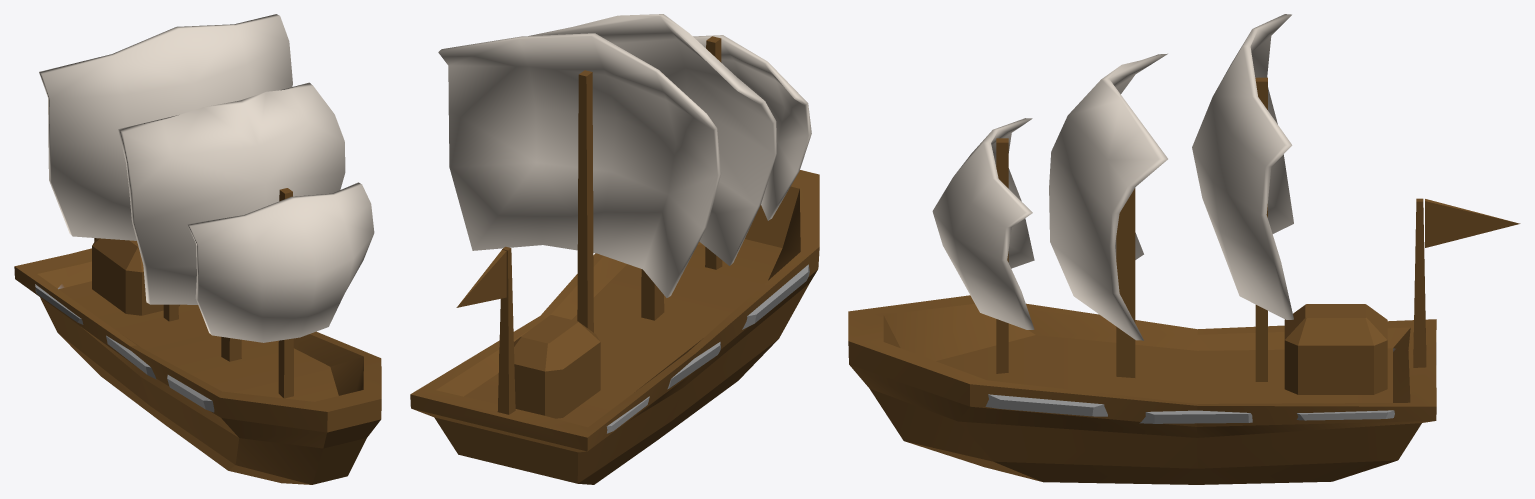
Rendered from Boat1.obj.
3 views of the same model, side by side, from view 1: azimuth 30°, elevation 25°; view 2: azimuth 150°, elevation 25°; view 3: azimuth 270°, elevation 25° (orthographic). The views are drawn at different scales.
Parts seen in each view (by area): view 1: Boat_T1_Sails polySurface18, Boat_T1_Sails polySurface22, Boat_T1_Sails Sails2 polySurface32, Boat_T1_Sails polySurface23 Sails1, polySurface17 Boat_T1_Sails, Boat_T1_Sails Sails1 polySurface24, Boat_T1_Sails Hull1 polySurface29, Boat_T1_Sails Hull1 polySurface28, Boat_T1_Sails polySurface21; view 2: Boat_T1_Sails Sails2 polySurface32, Boat_T1_Sails polySurface18, Boat_T1_Sails polySurface22, polySurface17 Boat_T1_Sails, Boat_T1_Sails polySurface23 Sails1, Boat_T1_Sails polySurface31 Sails2, Boat_T1_Sails polySurface20, Boat_T1_Sails polySurface19, Boat_T1_Sails Hull1 polySurface29, Boat_T1_Sails polySurface21, Boat_T1_Sails Hull1 polySurface28, Boat_T1_Sails Sails1 polySurface24; view 3: Boat_T1_Sails polySurface18, Boat_T1_Sails Sails2 polySurface32, Boat_T1_Sails polySurface22, Boat_T1_Sails polySurface23 Sails1, polySurface17 Boat_T1_Sails, Boat_T1_Sails polySurface21, Boat_T1_Sails polySurface19, Boat_T1_Sails polySurface20, Boat_T1_Sails polySurface25 Hull1, Boat_T1_Sails Hull1 polySurface27, Boat_T1_Sails polySurface31 Sails2, Boat_T1_Sails Sails1 polySurface24 (+1 smaller).
Boxes of the visible parts, x1,y1,x2,y2 form: Boat_T1_Sails polySurface18: (14,248,381,484); Boat_T1_Sails polySurface22: (118,82,345,304); Boat_T1_Sails Sails2 polySurface32: (39,14,292,240); Boat_T1_Sails polySurface23 Sails1: (187,182,374,342); polySurface17 Boat_T1_Sails: (92,238,179,315); Boat_T1_Sails Sails1 polySurface24: (278,188,293,398); Boat_T1_Sails Hull1 polySurface29: (167,375,214,412); Boat_T1_Sails Hull1 polySurface28: (106,335,156,379); Boat_T1_Sails polySurface21: (221,337,241,361); Boat_T1_Sails Sails2 polySurface32: (438,33,721,297); Boat_T1_Sails polySurface18: (410,170,819,484); Boat_T1_Sails polySurface22: (529,14,776,265); polySurface17 Boat_T1_Sails: (499,315,600,418); Boat_T1_Sails polySurface23 Sails1: (693,35,811,220); Boat_T1_Sails polySurface31 Sails2: (577,70,593,332); Boat_T1_Sails polySurface20: (497,246,515,414); Boat_T1_Sails polySurface19: (456,250,506,307); Boat_T1_Sails Hull1 polySurface29: (742,264,809,329); Boat_T1_Sails polySurface21: (641,73,664,320); Boat_T1_Sails Hull1 polySurface28: (667,342,720,389); Boat_T1_Sails Sails1 polySurface24: (705,36,722,269); Boat_T1_Sails polySurface18: (848,295,1436,484); Boat_T1_Sails Sails2 polySurface32: (1192,14,1293,319); Boat_T1_Sails polySurface22: (1049,53,1167,340); Boat_T1_Sails polySurface23 Sails1: (932,118,1034,329); polySurface17 Boat_T1_Sails: (1284,304,1387,394); Boat_T1_Sails polySurface21: (1116,188,1135,377); Boat_T1_Sails polySurface19: (1425,199,1520,247); Boat_T1_Sails polySurface20: (1413,198,1426,367); Boat_T1_Sails polySurface25 Hull1: (985,394,1107,416); Boat_T1_Sails Hull1 polySurface27: (1139,410,1252,423); Boat_T1_Sails polySurface31 Sails2: (1255,77,1267,381); Boat_T1_Sails Sails1 polySurface24: (996,138,1008,373).
Size of the model in its own units: 7.14 by 10.45 by 15.19.
1 material, 1 textured.
